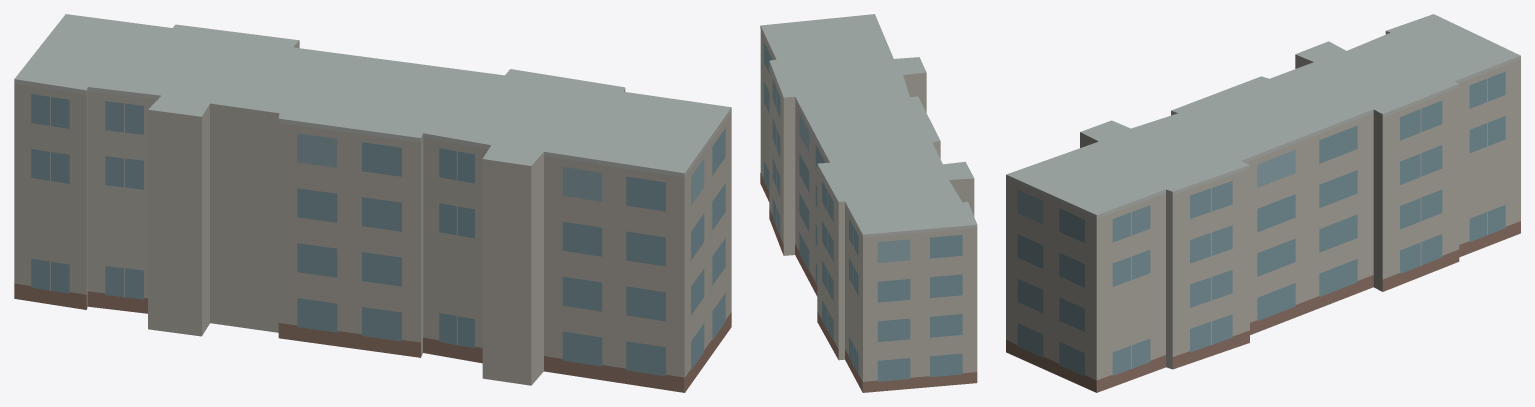
The model's file is survey-upis-32523316.glb.
3 renders of one model, left to right at view 1: azimuth 30°, elevation 25°; view 2: azimuth 150°, elevation 25°; view 3: azimuth 270°, elevation 25°, orthographic. The views are drawn at different scales.
Parts seen in each view (by area): view 1: survey-upis-32523316.tmp; view 2: survey-upis-32523316.tmp; view 3: survey-upis-32523316.tmp.
Boxes of the visible parts, x1,y1,x2,y2 form: survey-upis-32523316.tmp: (14, 14, 731, 392); survey-upis-32523316.tmp: (760, 14, 977, 392); survey-upis-32523316.tmp: (1006, 14, 1520, 392).
Size of the model in its own units: 29.6 by 12.2 by 32.02.
